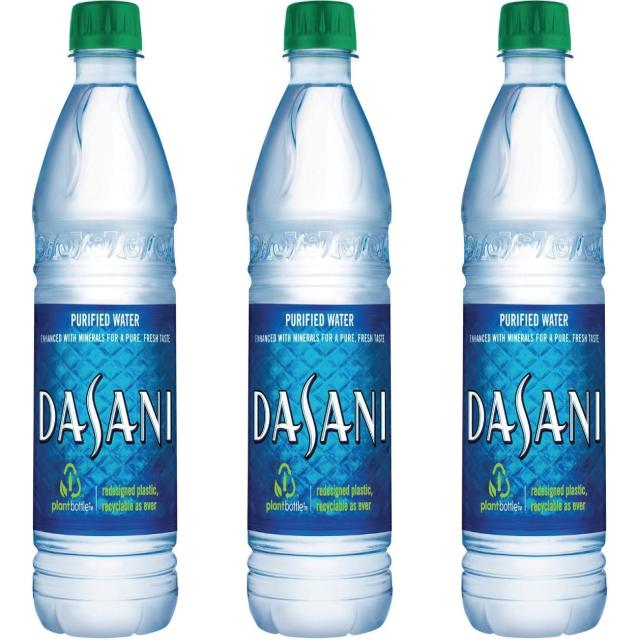bottle: (242, 0, 394, 639), (31, 0, 178, 640), (462, 0, 607, 636)
